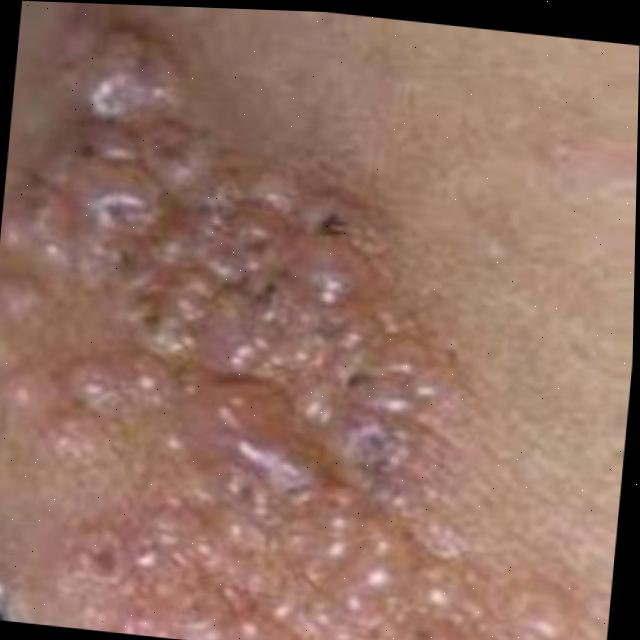Shingles: (0, 10, 627, 640)
